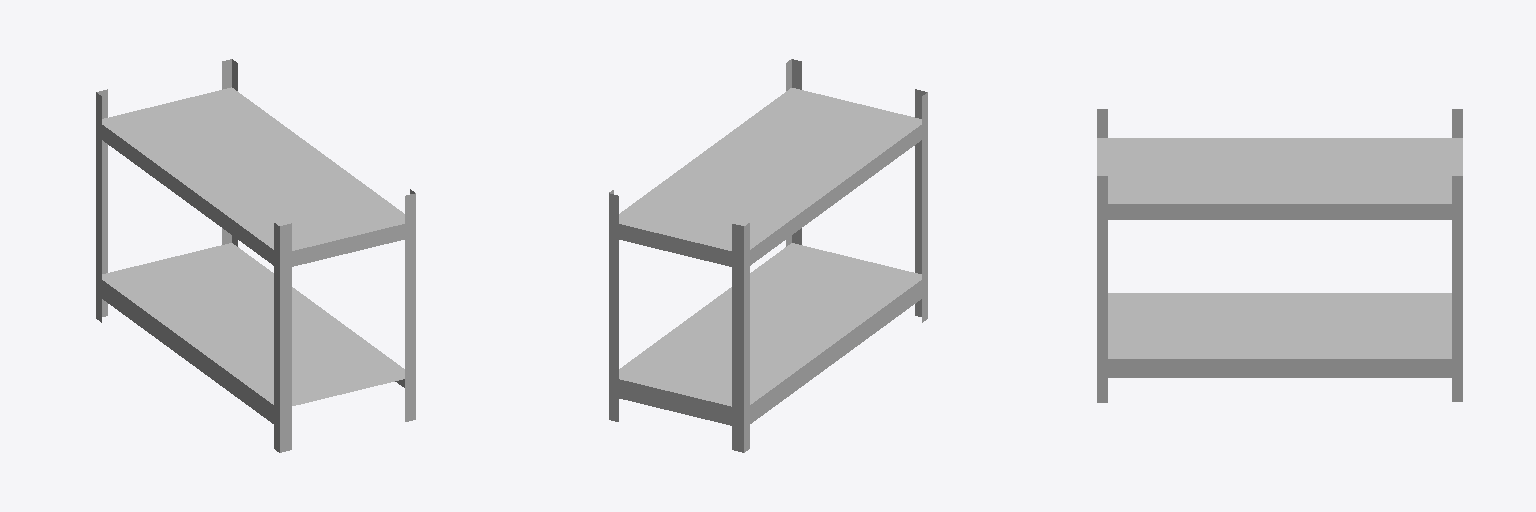
File: jail_BedBunk.obj
3 views of the same model, side by side, from view 1: azimuth 30°, elevation 25°; view 2: azimuth 150°, elevation 25°; view 3: azimuth 270°, elevation 25° (orthographic).
Visible parts, largest first — view 1: Cube.001; view 2: Cube.001; view 3: Cube.001.
Boxes of the visible parts, <box> form: Cube.001: <box>96,59,415,452</box>; Cube.001: <box>609,59,927,452</box>; Cube.001: <box>1097,109,1462,402</box>.
Bounding box in the file's own units: 3 × 4.77 × 7.